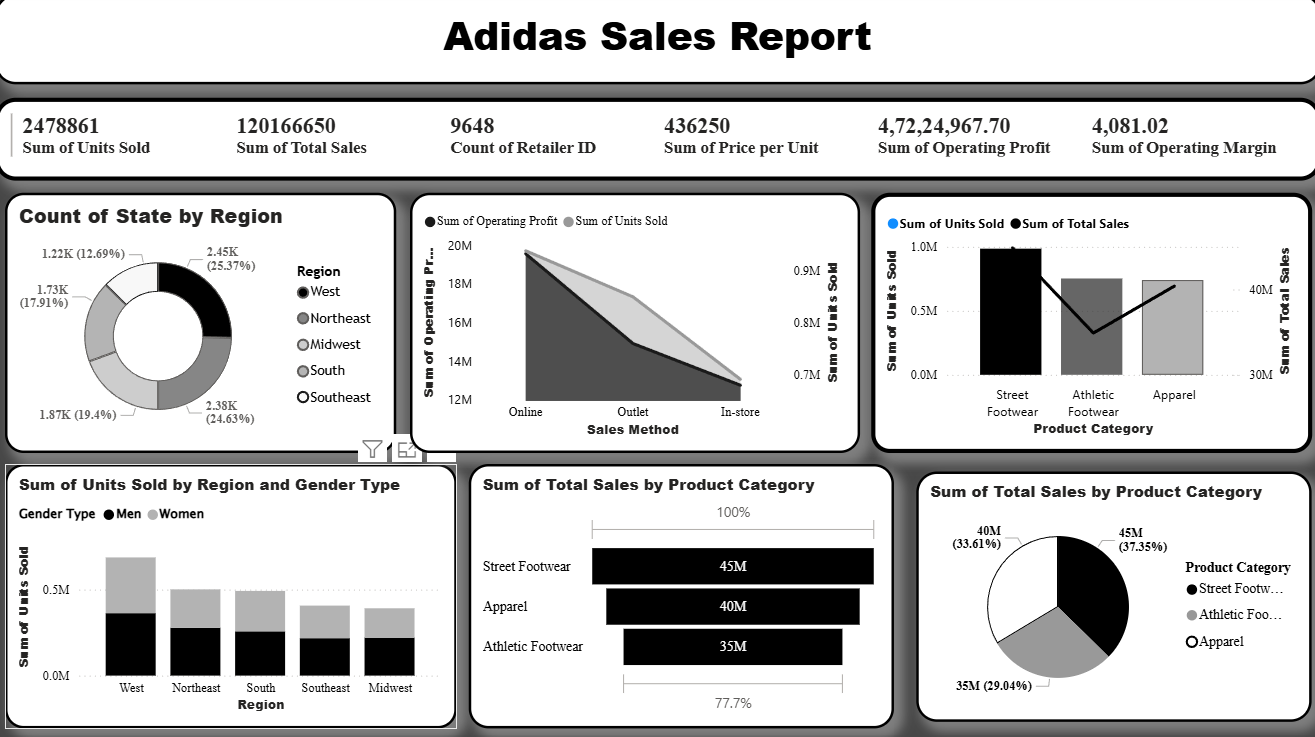

The dashboard page shown, as its layout file describes it:
{"tool":"powerbi","page":{"name":"Page 1","canvas":[1280,720],"ordinal":0},"visuals":[{"type":"textbox","box":[0,0,1280,87.1],"z":0},{"type":"multiRowCard","fields":{"Values":["Sum(Adidas_Sales.Units Sold)","Sum(Adidas_Sales.Total Sales)","CountNonNull(Adidas_Sales.Retailer ID)","Sum(Adidas_Sales.Price per Unit)","Sum(Adidas_Sales.Operating Profit)","Sum(Adidas_Sales.Operating Margin)"]},"box":[0,100,1280,80],"z":1000},{"type":"donutChart","fields":{"Y":["CountNonNull(Adidas_Sales.State)"],"Category":["Adidas_Sales.Region"]},"box":[9.6,192.1,377.4,251.1],"z":2000},{"type":"columnChart","fields":{"Category":["Adidas_Sales.Region"],"Y":["Sum(Adidas_Sales.Units Sold)"],"Series":["Adidas_Sales.Gender Type"]},"box":[9.6,454.2,436.4,255.2],"z":3000},{"type":"areaChart","fields":{"Category":["Adidas_Sales.Sales Method"],"Y":["Sum(Adidas_Sales.Operating Profit)"],"Y2":["Sum(Adidas_Sales.Units Sold)"]},"box":[400.5,191.8,434.3,250.9],"z":4000},{"type":"lineClusteredColumnComboChart","fields":{"Category":["Adidas_Sales.Product Category"],"Y":["Sum(Adidas_Sales.Units Sold)"],"Y2":["Sum(Adidas_Sales.Total Sales)"]},"box":[845.3,192.1,425.4,251.1],"z":5000},{"type":"funnel","fields":{"Category":["Adidas_Sales.Product Category"],"Y":["Sum(Adidas_Sales.Total Sales)"]},"box":[456.9,454.2,410.3,255.2],"z":6000},{"type":"pieChart","fields":{"Category":["Adidas_Sales.Product Category"],"Y":["Sum(Adidas_Sales.Total Sales)"]},"box":[889.2,461.1,381.5,241.5],"z":7000}]}

Visuals, with their boxes in screenshot pixels (x1, y1, x2, y2), scaled from the page's 1280x720 canvas onto the 1315x737 screenshot:
textbox: box=[0, 0, 1314, 89]
multiRowCard - Sum(Adidas_Sales.Units Sold) x Sum(Adidas_Sales.Total Sales): box=[0, 102, 1314, 184]
donutChart - CountNonNull(Adidas_Sales.State) x Adidas_Sales.Region: box=[10, 197, 398, 454]
columnChart - Adidas_Sales.Region x Sum(Adidas_Sales.Units Sold): box=[10, 465, 458, 726]
areaChart - Adidas_Sales.Sales Method x Sum(Adidas_Sales.Operating Profit): box=[411, 196, 858, 453]
lineClusteredColumnComboChart - Adidas_Sales.Product Category x Sum(Adidas_Sales.Units Sold): box=[868, 197, 1305, 454]
funnel - Adidas_Sales.Product Category x Sum(Adidas_Sales.Total Sales): box=[469, 465, 891, 726]
pieChart - Adidas_Sales.Product Category x Sum(Adidas_Sales.Total Sales): box=[914, 472, 1305, 719]
